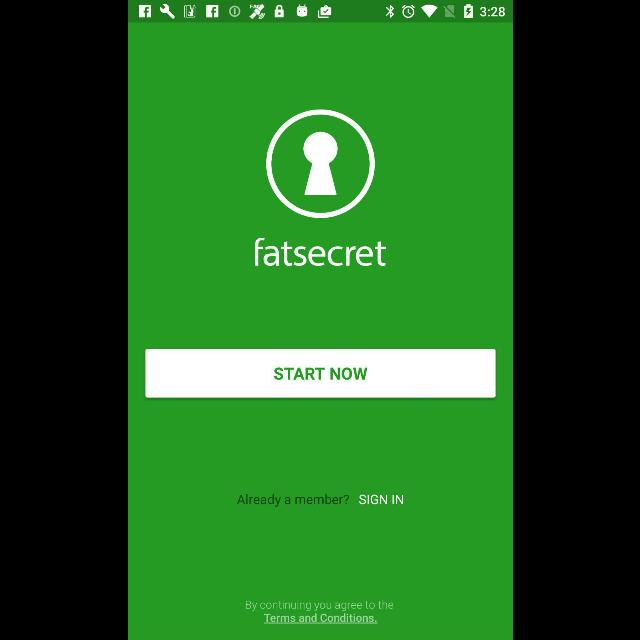image: (266, 109, 374, 219)
text: (252, 238, 386, 266), (245, 600, 393, 624), (236, 494, 348, 506), (359, 494, 403, 506)
textbutton: (145, 349, 495, 398)
uppertaskbar: (128, 1, 512, 23)
